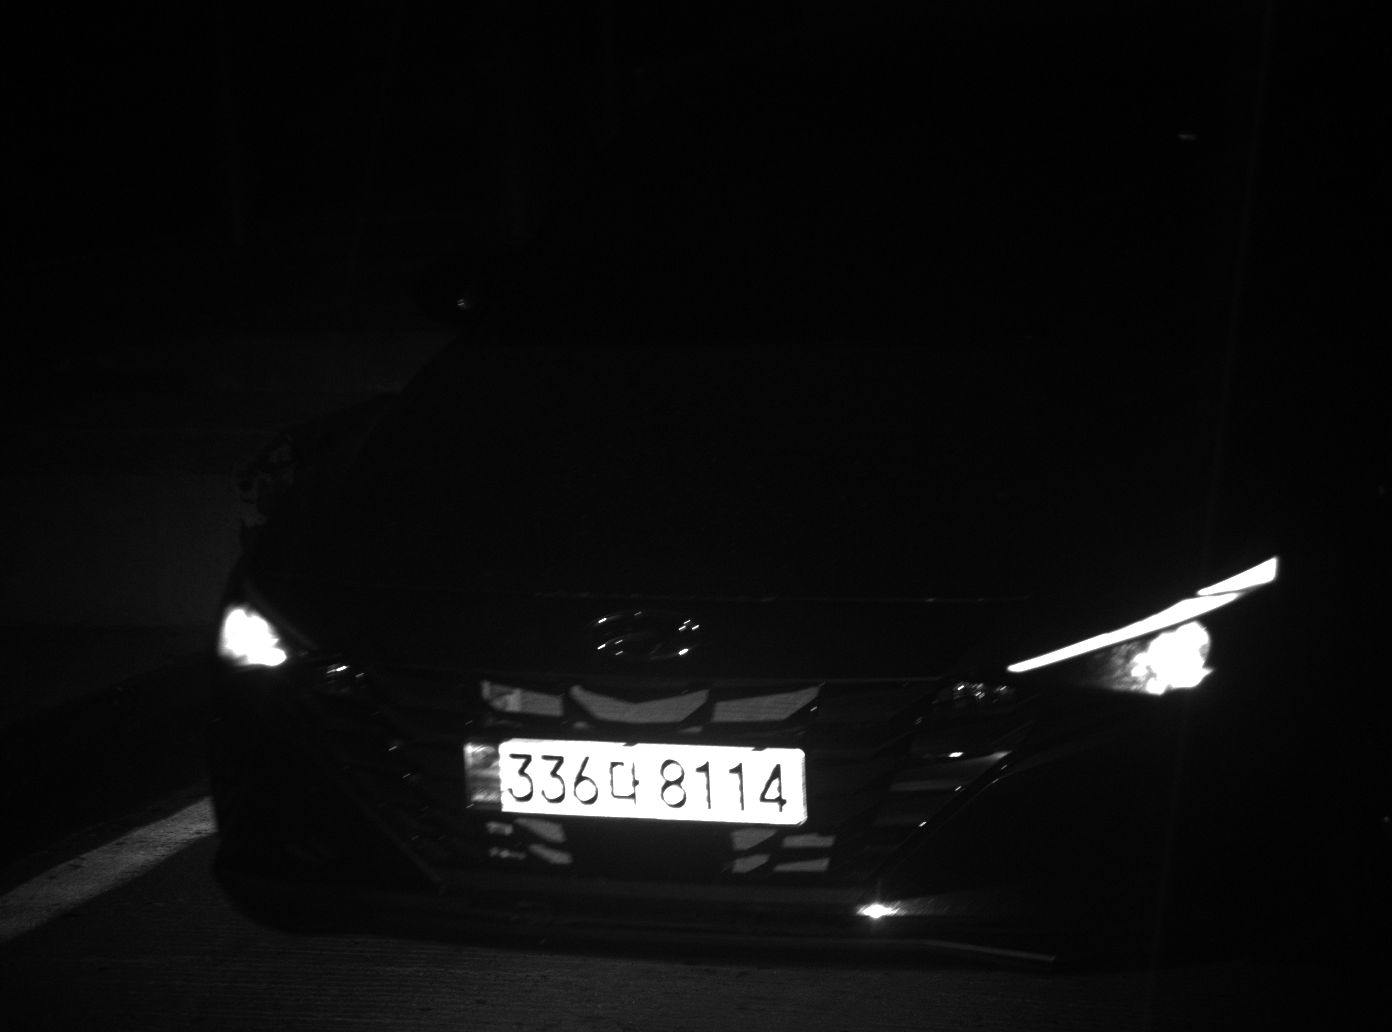plate: (207, 230, 1392, 978), (496, 734, 811, 830)
